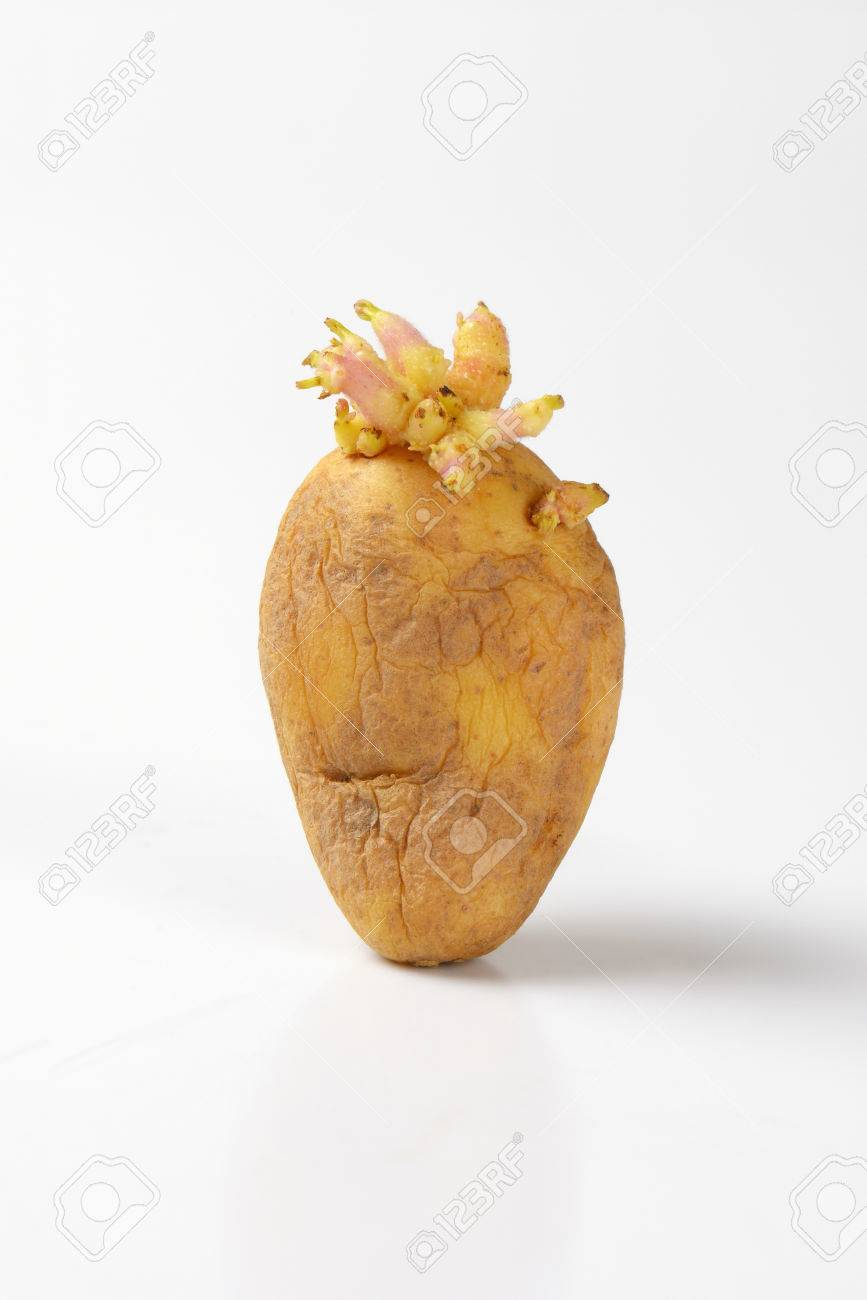potato rotten: (178, 279, 679, 1002)
